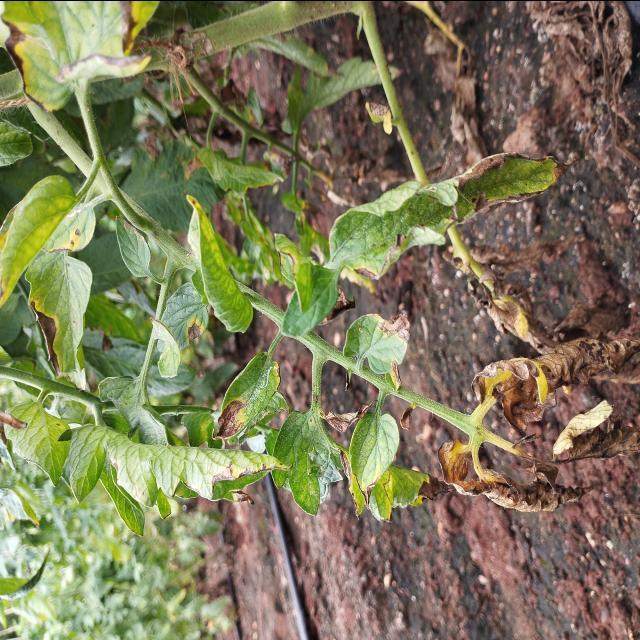Tomato mosaic virus leaf: (470, 336, 640, 434), (436, 143, 584, 241), (334, 446, 460, 523), (211, 346, 285, 444), (477, 467, 600, 521), (342, 298, 414, 376), (151, 280, 211, 358), (52, 214, 98, 258)
